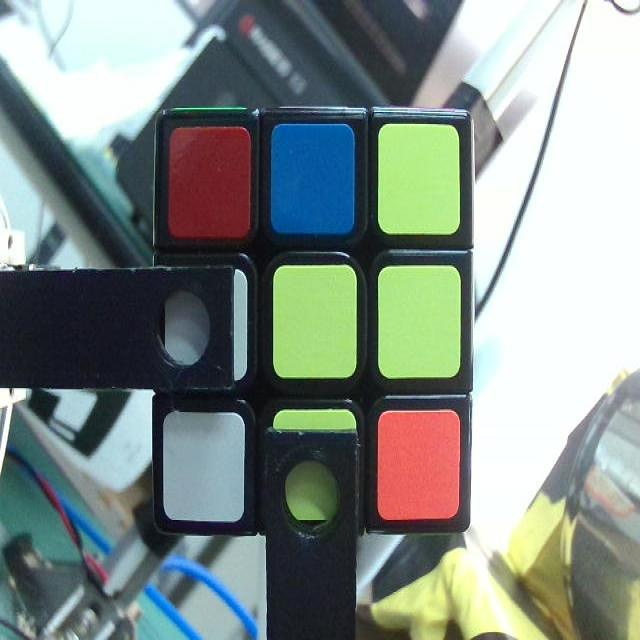b: (273, 126, 354, 230)
o: (378, 414, 456, 515)
r: (170, 134, 249, 238)
w: (166, 274, 243, 378), (165, 416, 242, 519)
y: (276, 411, 356, 521), (379, 265, 459, 373), (276, 270, 355, 376), (378, 131, 457, 230)
